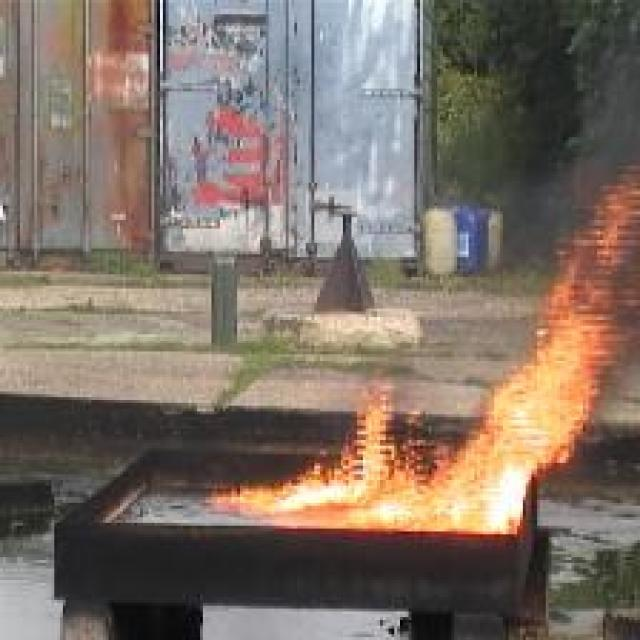Fire: (208, 161, 640, 535)
